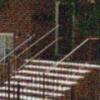stairs: (1, 55, 100, 100)
